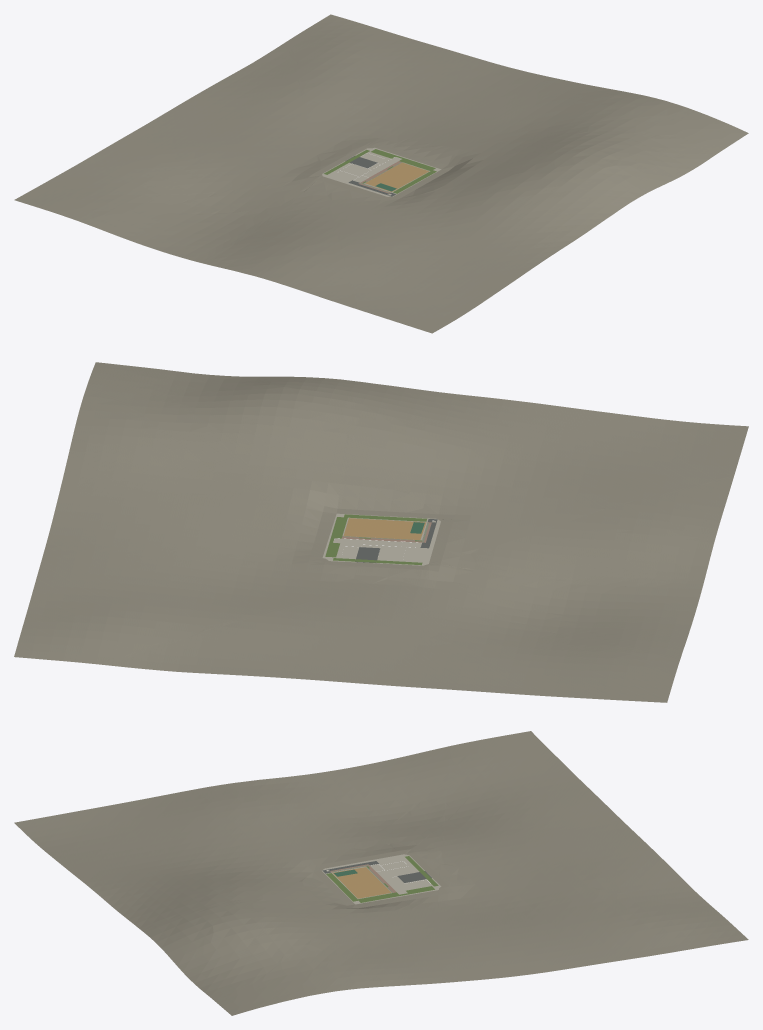
3 views of the same model, one above another, from view 1: azimuth 30°, elevation 25°; view 2: azimuth 150°, elevation 25°; view 3: azimuth 270°, elevation 25° (orthographic). The views are drawn at different scales.
Parts seen in each view (by area): view 1: ground_context-estimated, surface_school-paved-walk, surface_sports-field; view 2: ground_context-estimated, surface_school-paved-walk, surface_sports-field; view 3: ground_context-estimated, surface_school-paved-walk, surface_sports-field.
Part boxes in pixels (x1=…): ground_context-estimated: x1=14, y1=14, x2=748, y2=333; surface_school-paved-walk: x1=322, y1=147, x2=441, y2=196; surface_sports-field: x1=365, y1=162, x2=428, y2=191; ground_context-estimated: x1=14, y1=362, x2=748, y2=702; surface_school-paved-walk: x1=322, y1=513, x2=440, y2=565; surface_sports-field: x1=343, y1=518, x2=426, y2=539; ground_context-estimated: x1=14, y1=731, x2=748, y2=1015; surface_school-paved-walk: x1=322, y1=854, x2=441, y2=904; surface_sports-field: x1=332, y1=867, x2=391, y2=898.
Bounding box in the file's own units: 943 × 62.82 × 943.
Materials: 8 (8 with a texture image).
